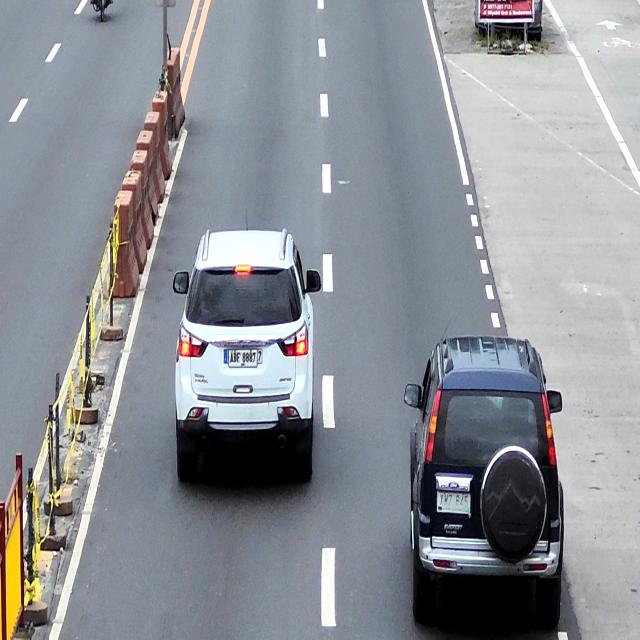Car: (406, 336, 565, 626), (173, 231, 322, 483)
License-Plate: (437, 491, 471, 514), (228, 349, 257, 366)
